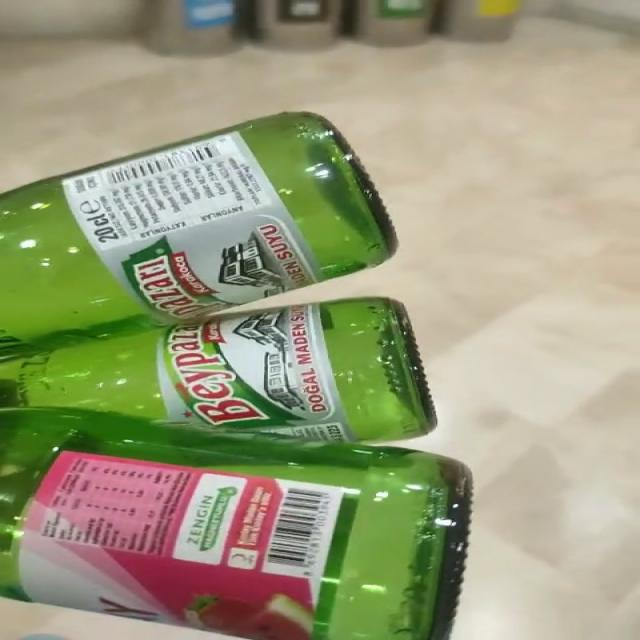glass: (1, 112, 472, 640)
